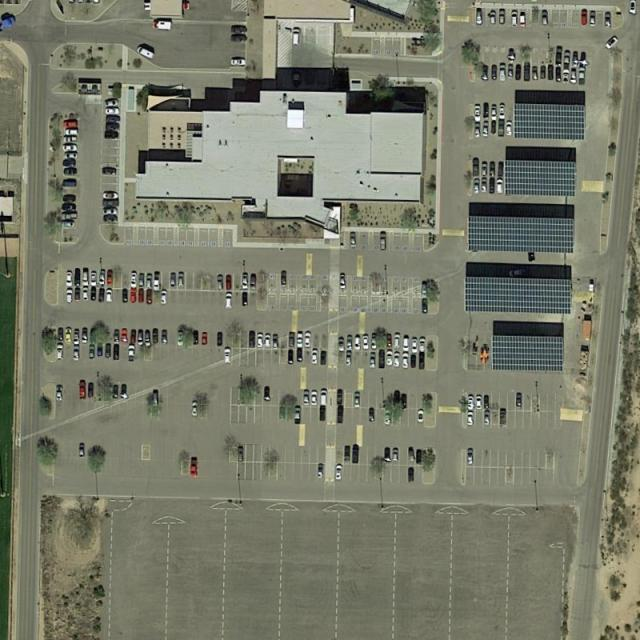vehicle: (1, 10, 21, 35), (136, 46, 155, 62), (152, 20, 173, 31), (606, 35, 619, 49), (352, 445, 361, 465), (190, 458, 199, 478), (336, 404, 345, 424), (223, 347, 232, 366), (191, 401, 201, 418), (294, 405, 302, 426), (514, 394, 525, 409), (78, 382, 87, 400), (248, 330, 256, 350), (378, 349, 386, 369), (466, 449, 475, 466), (472, 177, 481, 194), (105, 131, 122, 140), (474, 103, 482, 122), (88, 344, 98, 359), (383, 446, 392, 462), (335, 463, 343, 481), (90, 286, 99, 302), (98, 286, 106, 304), (146, 287, 154, 305), (304, 331, 312, 349), (296, 332, 304, 350), (256, 332, 265, 348), (241, 273, 249, 291), (154, 272, 162, 290), (107, 270, 116, 286), (178, 330, 186, 348), (321, 390, 330, 406), (418, 352, 426, 370), (122, 326, 130, 344), (368, 352, 377, 368), (386, 350, 394, 368), (580, 10, 589, 26), (230, 35, 248, 43), (75, 267, 82, 287), (394, 333, 402, 350), (402, 335, 410, 352), (354, 334, 362, 351), (379, 233, 387, 250), (250, 274, 258, 291), (82, 269, 90, 286), (354, 392, 362, 409), (56, 344, 64, 361), (475, 8, 483, 25), (570, 68, 578, 85), (231, 25, 248, 33), (137, 330, 146, 345), (415, 449, 423, 465), (237, 446, 245, 462), (106, 286, 114, 302), (130, 287, 138, 303), (160, 289, 168, 305), (370, 333, 378, 349), (362, 334, 370, 350), (346, 334, 354, 350), (66, 288, 74, 304), (66, 270, 74, 286), (480, 162, 488, 178), (482, 177, 490, 193), (350, 231, 358, 247), (98, 269, 106, 285), (310, 390, 318, 406), (394, 390, 402, 406), (466, 396, 474, 412), (130, 329, 138, 345), (65, 327, 73, 343), (311, 350, 319, 366), (320, 350, 328, 366), (511, 10, 519, 26), (604, 11, 612, 27), (482, 121, 490, 137), (562, 68, 570, 84), (490, 104, 498, 120), (498, 105, 506, 121), (506, 121, 514, 137), (490, 121, 498, 137), (103, 214, 119, 222), (338, 337, 347, 351), (265, 334, 274, 348), (474, 157, 480, 178), (56, 385, 63, 403), (320, 404, 327, 422), (81, 328, 90, 342), (555, 47, 562, 65), (482, 63, 489, 81), (293, 28, 300, 46), (102, 199, 120, 206), (466, 411, 474, 426), (242, 291, 250, 306), (82, 287, 90, 302), (74, 287, 82, 302), (90, 271, 98, 286), (410, 354, 418, 369), (302, 391, 310, 406), (475, 396, 483, 411), (402, 354, 410, 369), (57, 326, 65, 341), (127, 346, 135, 361), (541, 10, 549, 25), (498, 10, 506, 25), (61, 204, 76, 212), (507, 47, 515, 62), (531, 65, 539, 80), (344, 445, 351, 462), (408, 466, 415, 483), (138, 287, 145, 304), (489, 177, 496, 194), (422, 297, 429, 314), (218, 273, 225, 290), (178, 271, 185, 288), (146, 272, 153, 289), (138, 272, 145, 289), (192, 329, 199, 346), (120, 383, 127, 400), (152, 392, 159, 409), (145, 330, 152, 347), (90, 328, 97, 345), (73, 329, 80, 346), (73, 345, 80, 362), (483, 102, 490, 119), (230, 59, 247, 66), (114, 342, 120, 361), (391, 449, 399, 463), (78, 442, 85, 458), (418, 338, 426, 352), (411, 338, 418, 354), (386, 332, 393, 348), (289, 332, 296, 348), (339, 273, 346, 289), (421, 280, 429, 294), (170, 272, 178, 286), (130, 271, 137, 287), (88, 382, 95, 398), (264, 386, 271, 402), (104, 342, 111, 358), (345, 350, 352, 366), (490, 10, 497, 26), (499, 66, 506, 82), (515, 65, 522, 81), (62, 213, 78, 220), (524, 64, 530, 82), (316, 464, 323, 479), (408, 449, 415, 464), (216, 331, 223, 346), (201, 331, 208, 346), (112, 384, 119, 399), (338, 389, 345, 404), (417, 410, 424, 425), (386, 410, 393, 425), (288, 350, 295, 365), (296, 347, 303, 362), (498, 162, 505, 177), (519, 12, 526, 27), (498, 122, 505, 137), (106, 116, 121, 123), (102, 167, 117, 174), (226, 274, 232, 291), (63, 122, 80, 128), (152, 330, 159, 344), (114, 328, 121, 342), (579, 68, 586, 82), (491, 66, 498, 80), (539, 65, 546, 79), (63, 180, 77, 187), (226, 294, 232, 310), (281, 271, 287, 287), (500, 411, 506, 427), (484, 410, 490, 426), (161, 329, 167, 345), (97, 342, 103, 358), (590, 10, 596, 26), (556, 66, 562, 82), (272, 334, 279, 347), (630, 1, 637, 14), (507, 65, 514, 78), (547, 66, 554, 79), (63, 195, 76, 202), (498, 179, 504, 194), (484, 395, 490, 410), (490, 162, 496, 177), (474, 123, 480, 138), (104, 101, 122, 106), (102, 194, 120, 199), (63, 137, 78, 143), (402, 394, 407, 411), (105, 109, 122, 114), (122, 289, 128, 303), (370, 408, 376, 422), (581, 52, 587, 66), (64, 130, 78, 136), (64, 168, 78, 174), (61, 222, 77, 227), (394, 353, 400, 366), (565, 51, 570, 66), (105, 125, 120, 130), (103, 209, 118, 214), (63, 146, 78, 151), (64, 154, 78, 159), (573, 52, 578, 65), (64, 161, 76, 166), (66, 1, 74, 4), (94, 1, 101, 3), (78, 1, 83, 2)
